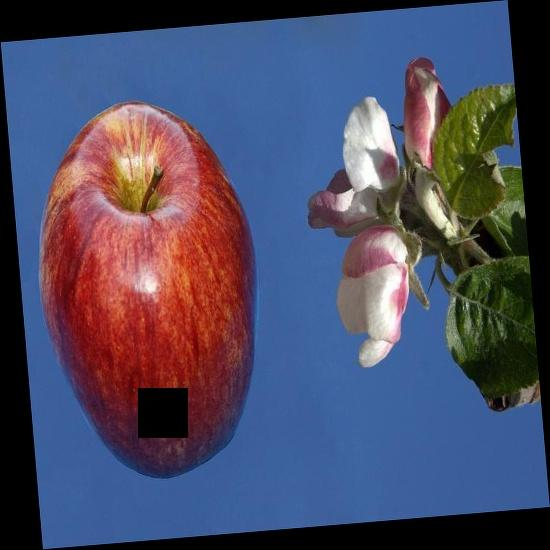red apple: (38, 99, 256, 478)
